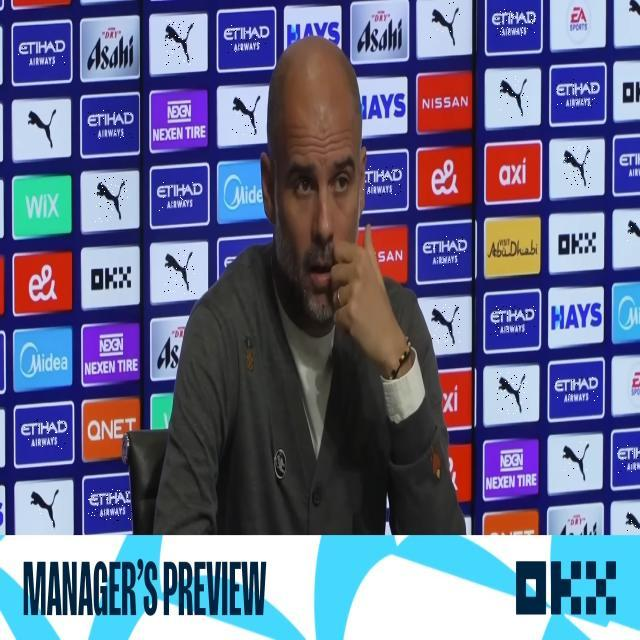Etihad Airways: (88, 488, 132, 522), (20, 420, 68, 450), (422, 236, 468, 266), (490, 306, 536, 336), (158, 180, 202, 211), (87, 110, 134, 139), (556, 79, 601, 109), (224, 26, 269, 54), (18, 40, 66, 66), (363, 166, 403, 196), (492, 9, 536, 36), (554, 376, 598, 402), (617, 443, 640, 473), (619, 150, 640, 178)
Puma: (94, 177, 128, 224), (429, 2, 460, 49), (26, 102, 57, 149), (164, 250, 196, 294), (29, 488, 62, 530), (496, 373, 528, 415), (165, 20, 194, 66), (430, 302, 460, 346), (232, 94, 261, 136), (564, 146, 592, 188), (500, 76, 528, 118), (562, 440, 588, 482), (627, 217, 640, 244), (625, 509, 640, 531), (625, 0, 640, 19)
